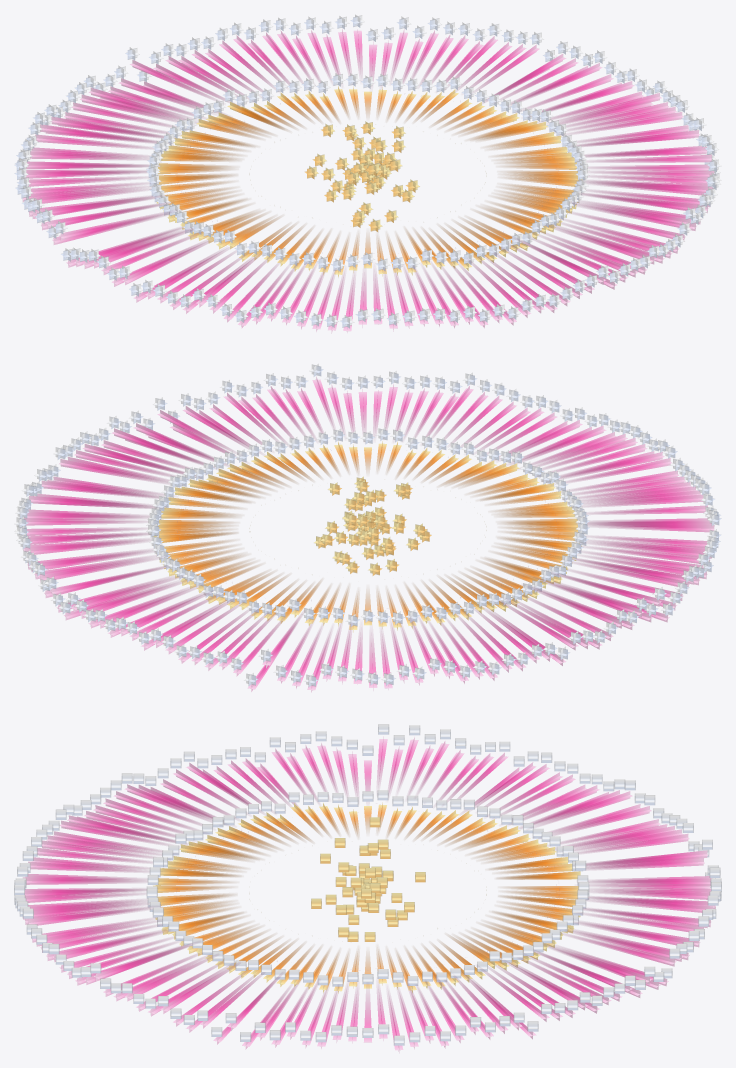
The model's file is fw_ring_pink_gold_a.glb.
3 renders of one model, top to bottom at view 1: azimuth 30°, elevation 25°; view 2: azimuth 150°, elevation 25°; view 3: azimuth 270°, elevation 25°, orthographic.
Parts seen in each view (by area): view 1: spire; view 2: spire; view 3: spire.
Part boxes in pixels (x1=…): spire: x1=14, y1=14, x2=721, y2=333; spire: x1=14, y1=363, x2=721, y2=692; spire: x1=14, y1=724, x2=721, y2=1053.
Bounding box in the file's own units: 20.32 × 3.38 × 20.32.
Materials: 4 (4 with a texture image).
